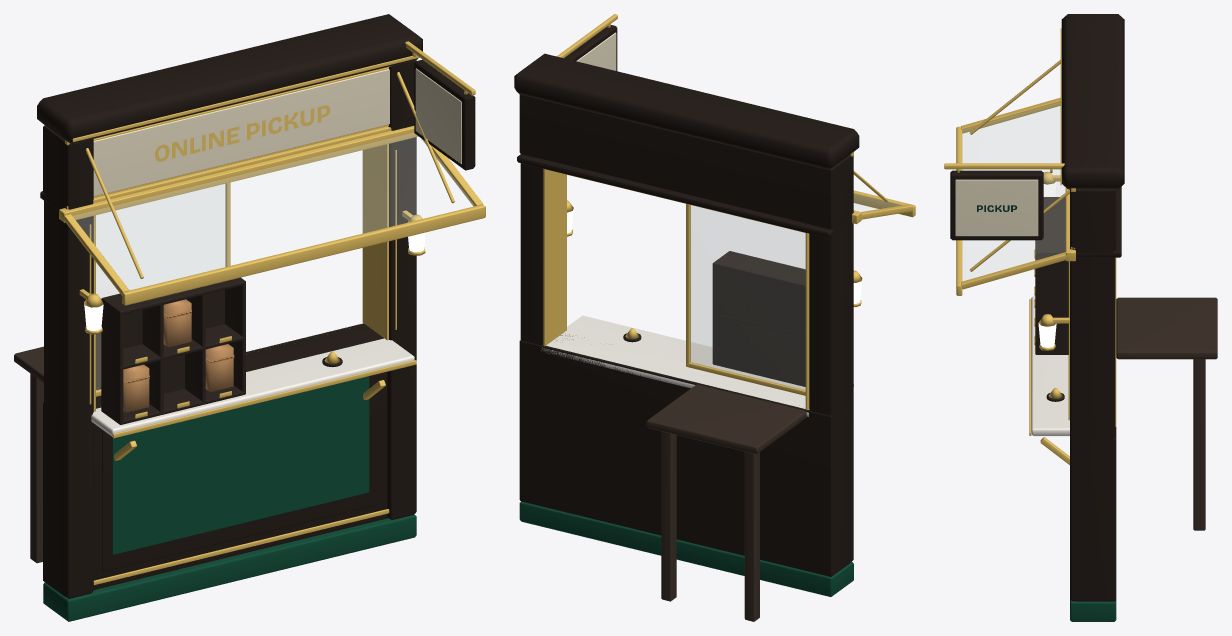
Rendered from pickup_window_founder.glb.
3 views of the same model, side by side, from view 1: azimuth 30°, elevation 25°; view 2: azimuth 150°, elevation 25°; view 3: azimuth 270°, elevation 25° (orthographic). The views are drawn at different scales.
Visible parts, largest first — view 1: CanopyGlass, KickInset, Pilaster-1, Cap, SignPanel, KickWall, Pilaster1, Pane, Plinth, KickPanel, Ledge, CanopyFront (+25 smaller); view 2: KickWall, SignBand, Pane, Cap, Pilaster-1, RackBack, Ledge, InnerShelf, Plinth, Pilaster1, Bead0.75, Header (+9 smaller); view 3: Pilaster1, Cap, CanopyGlass, KickWall, InnerShelf, BladePanel, Ledge, RackSide3, ShelfLeg-0.20, BladeFrame, SignBand, RackShelf2 (+9 smaller).
Boxes of the visible parts, x1,y1,x2,y2 form: CanopyGlass: (73,133,474,289); KickInset: (112,376,369,554); Pilaster-1: (44,129,93,598); Cap: (37,14,422,143); SignPanel: (93,69,389,196); KickWall: (43,323,388,596); Pilaster1: (387,60,416,519); Pane: (96,184,225,391); Plinth: (43,514,416,621); KickPanel: (102,374,378,571); Ledge: (91,328,414,436); CanopyFront: (122,204,485,305); KickWall: (519,335,850,576); SignBand: (519,94,850,229); Pane: (690,205,805,390); Cap: (514,53,859,169); Pilaster-1: (809,155,853,573); RackBack: (713,262,805,386); Ledge: (541,315,809,416); InnerShelf: (646,384,806,454); Plinth: (519,501,853,596); Pilaster1: (520,154,543,345); Bead0.75: (543,169,566,346); Header: (517,154,833,238); Pilaster1: (1070,189,1115,601); Cap: (1061,14,1124,189); CanopyGlass: (962,103,1065,280); KickWall: (1077,427,1116,601); InnerShelf: (1116,297,1217,359); BladePanel: (955,179,1038,236); Ledge: (1031,296,1069,436); RackSide3: (1035,251,1068,353); ShelfLeg-0.20: (1193,359,1205,530); BladeFrame: (950,170,1043,240); SignBand: (1076,189,1116,250); RackShelf2: (1035,198,1065,253).
Bounding box in the file's own units: 1.86 × 2.48 × 1.35.
